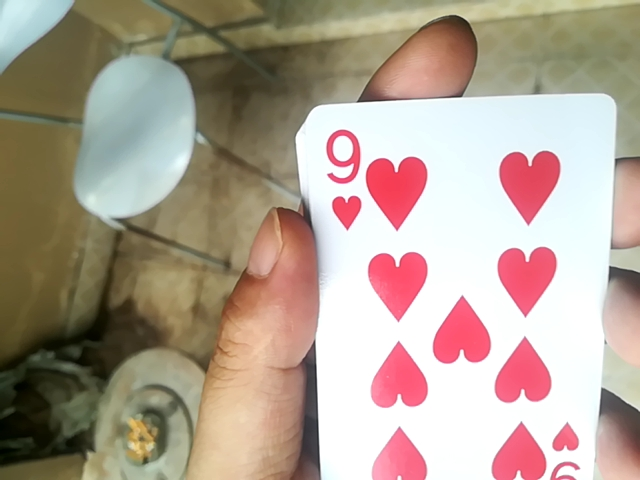hx 9: (318, 99, 617, 479)
